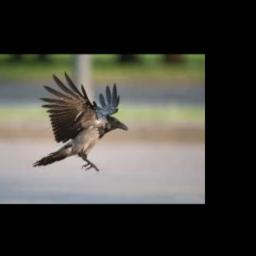Crow: (31, 71, 128, 171)
